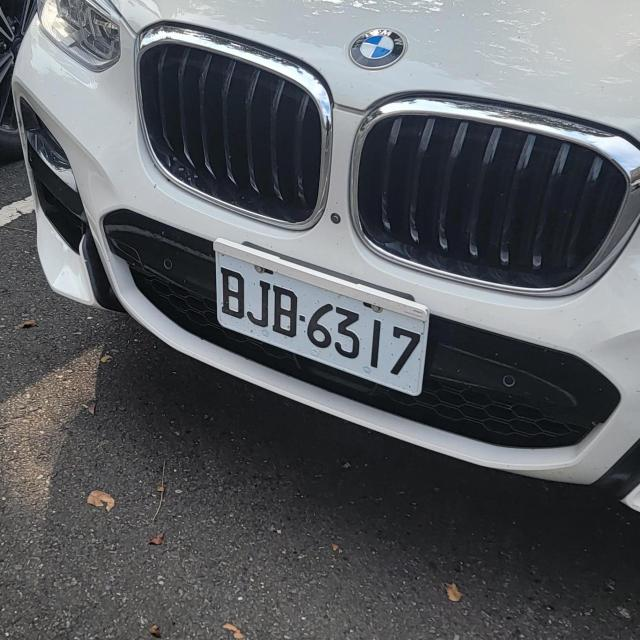W: (208, 252, 442, 396)
